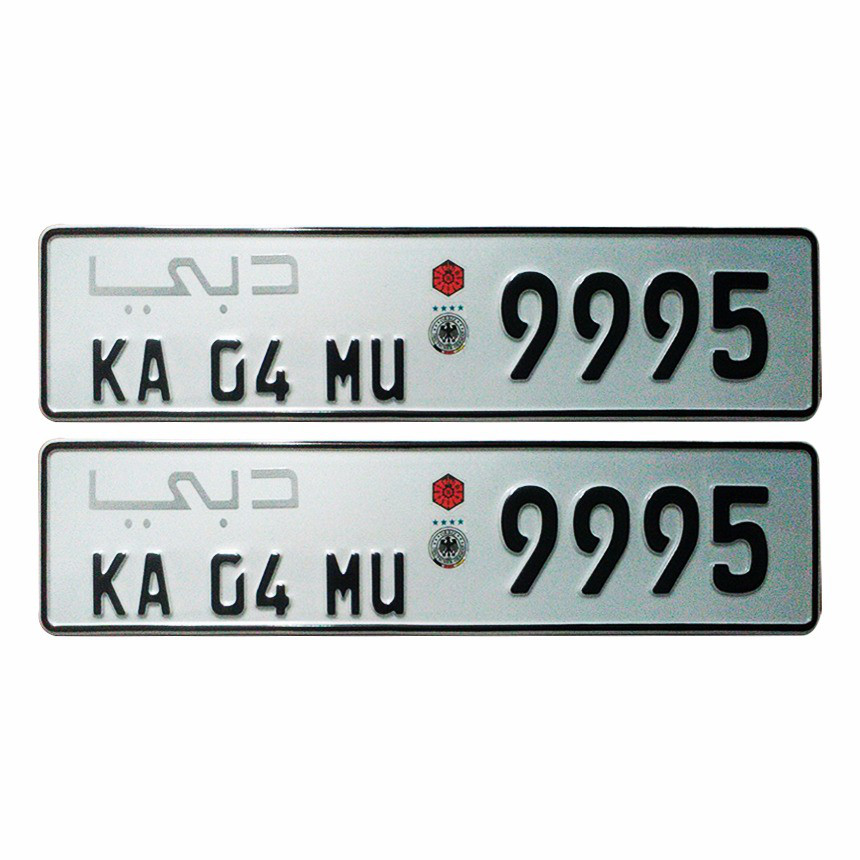number_plate: (37, 221, 823, 425), (40, 439, 822, 642)
